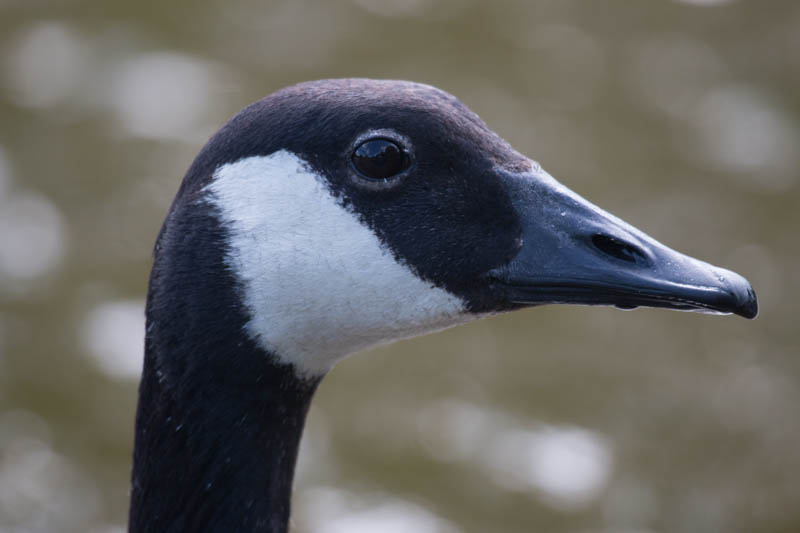goose-head: (142, 77, 758, 375)
